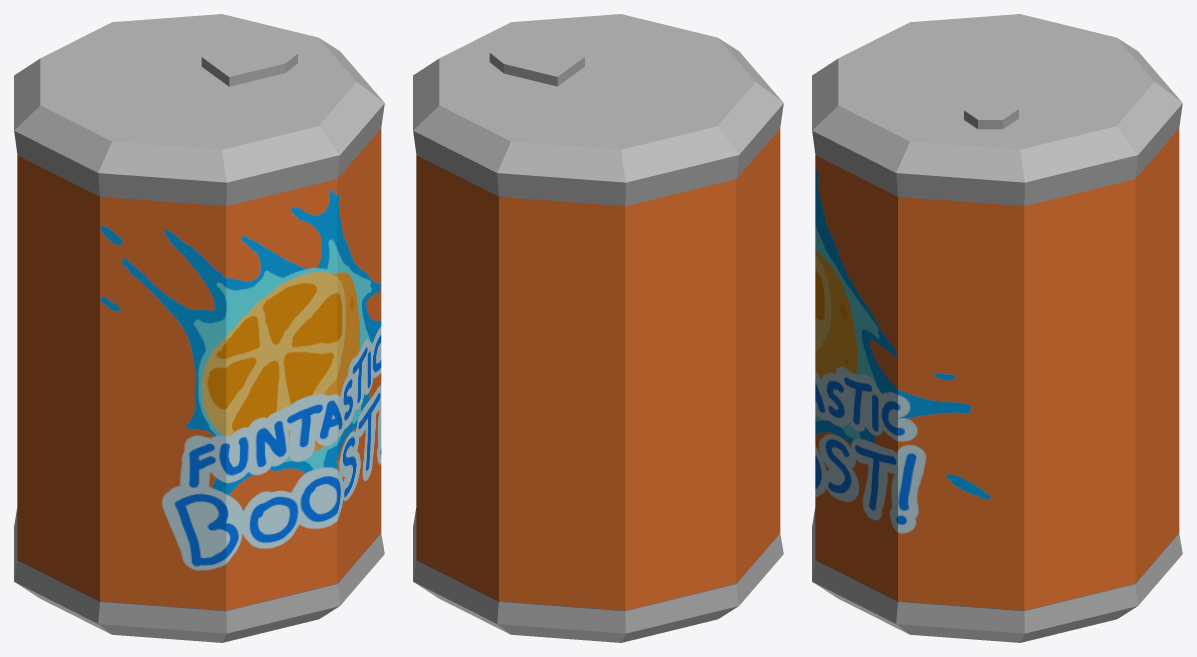
The model's file is soda_can.fbx.
The picture shows the model from 3 angles, left to right: view 1: azimuth 30°, elevation 25°; view 2: azimuth 150°, elevation 25°; view 3: azimuth 270°, elevation 25°; orthographic projection.
Parts seen in each view (by area): view 1: fbfs; view 2: fbfs; view 3: fbfs.
Boxes of the visible parts, bbox=[...] form: fbfs: bbox=[14, 14, 384, 642]; fbfs: bbox=[413, 14, 783, 642]; fbfs: bbox=[812, 14, 1182, 642].
Bounding box in the file's own units: 34.84 × 51.32 × 34.31.
